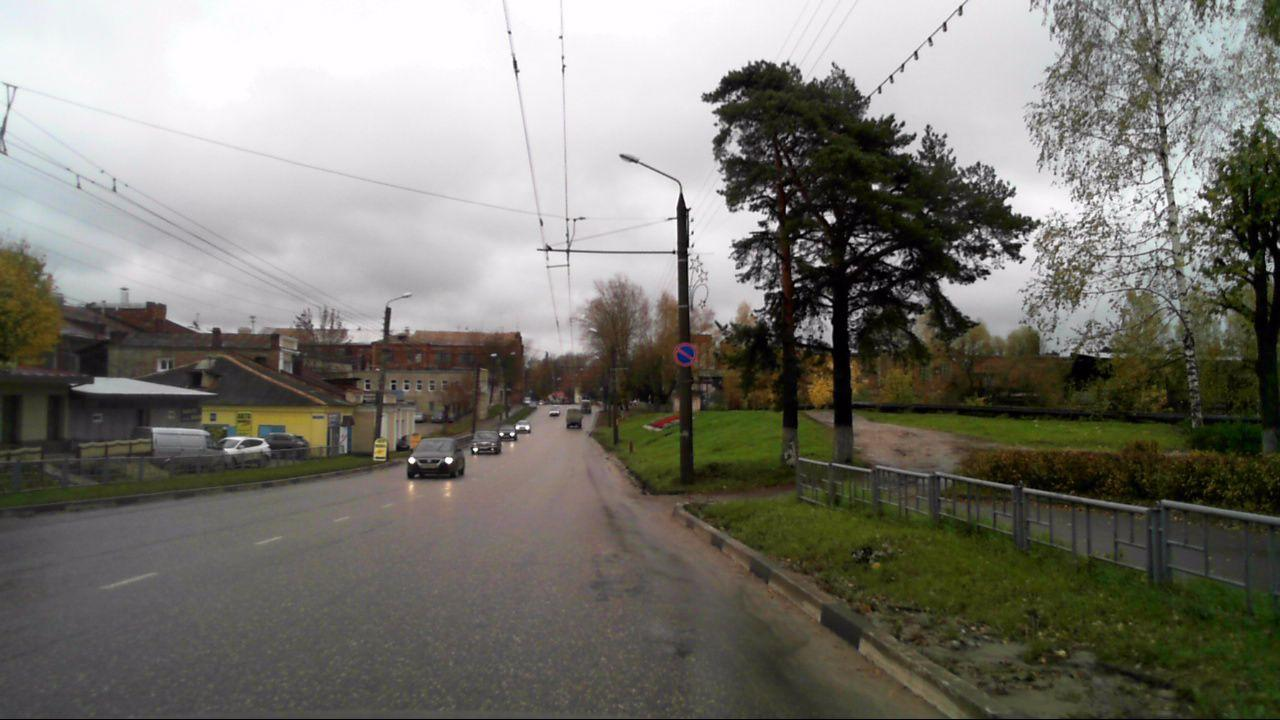3_28: (672, 342, 698, 368)
